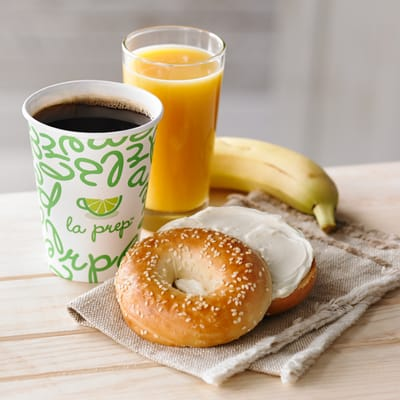pizza: (20, 80, 164, 285), (121, 25, 227, 215)
